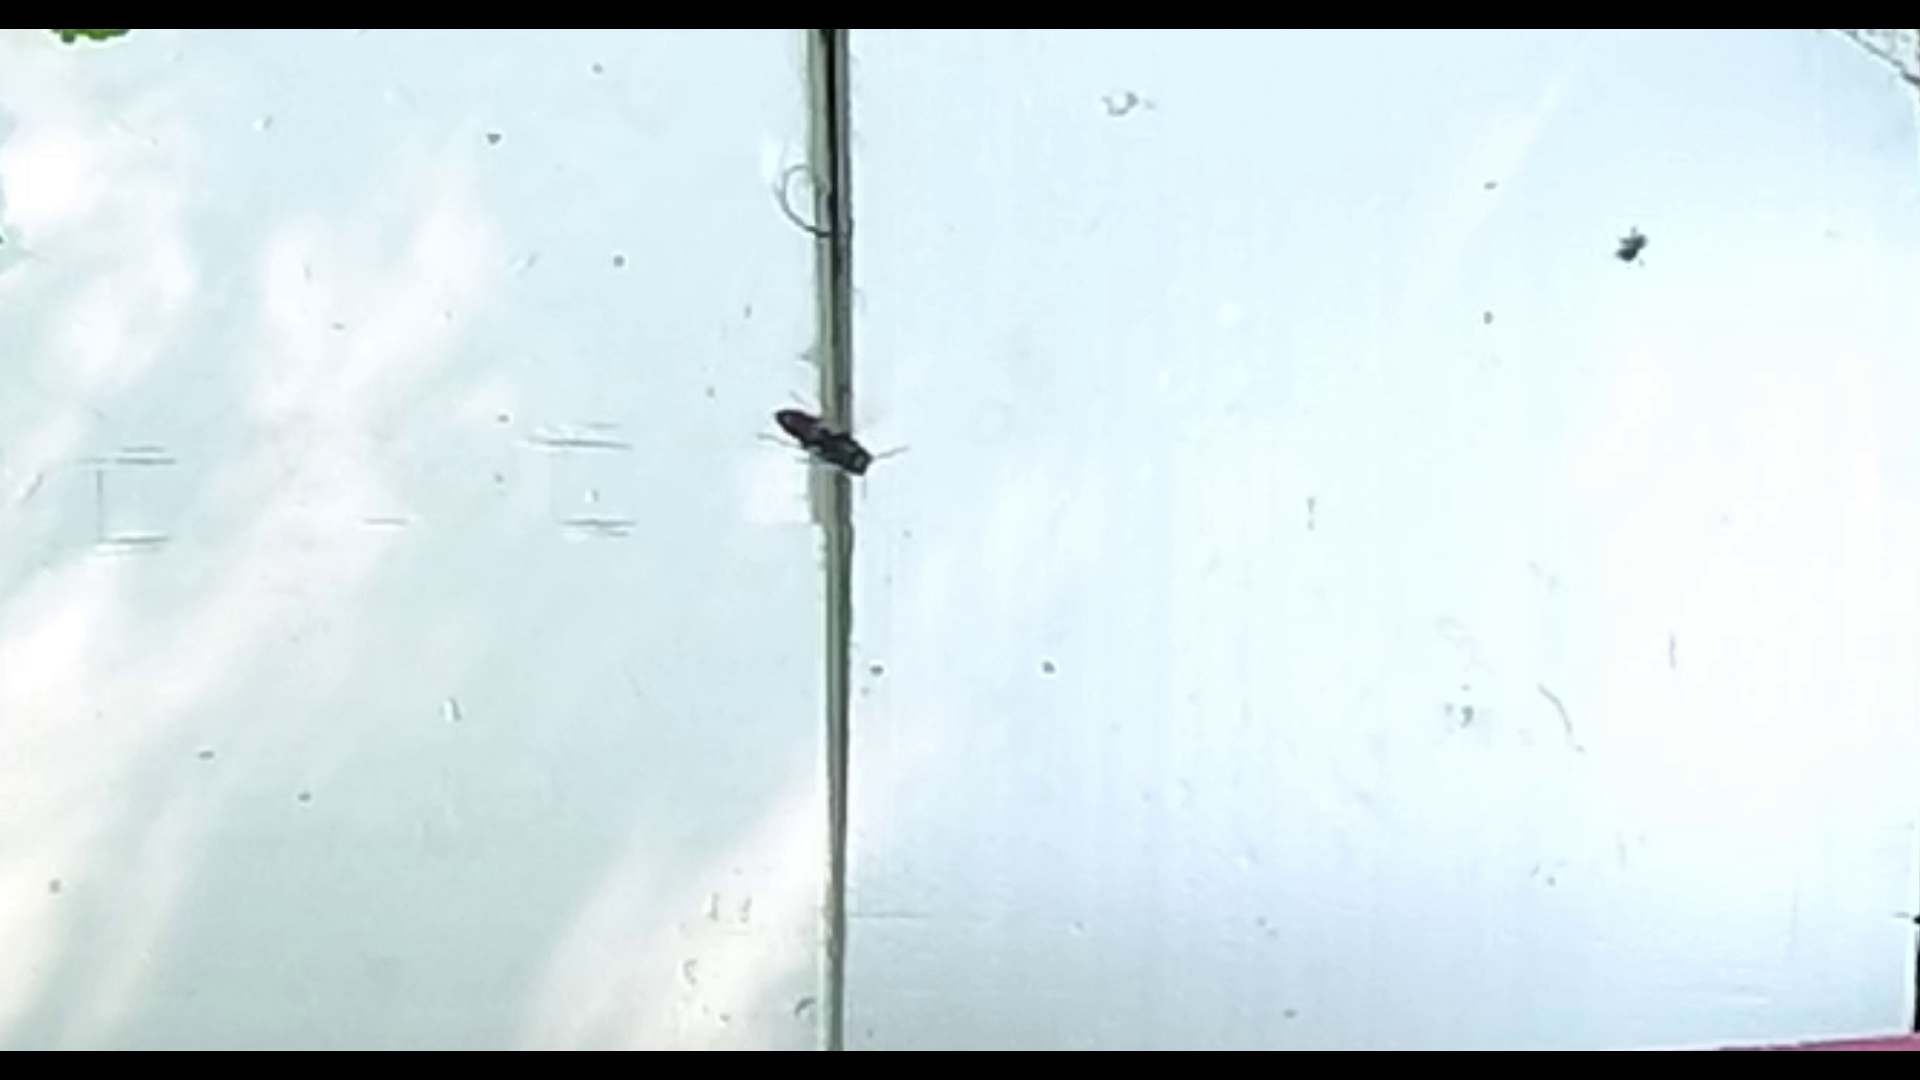Asian_hornets: (740, 367, 920, 509)
